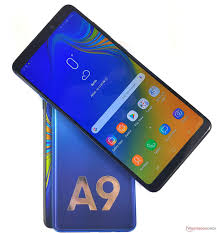samsung: (9, 1, 212, 189)
